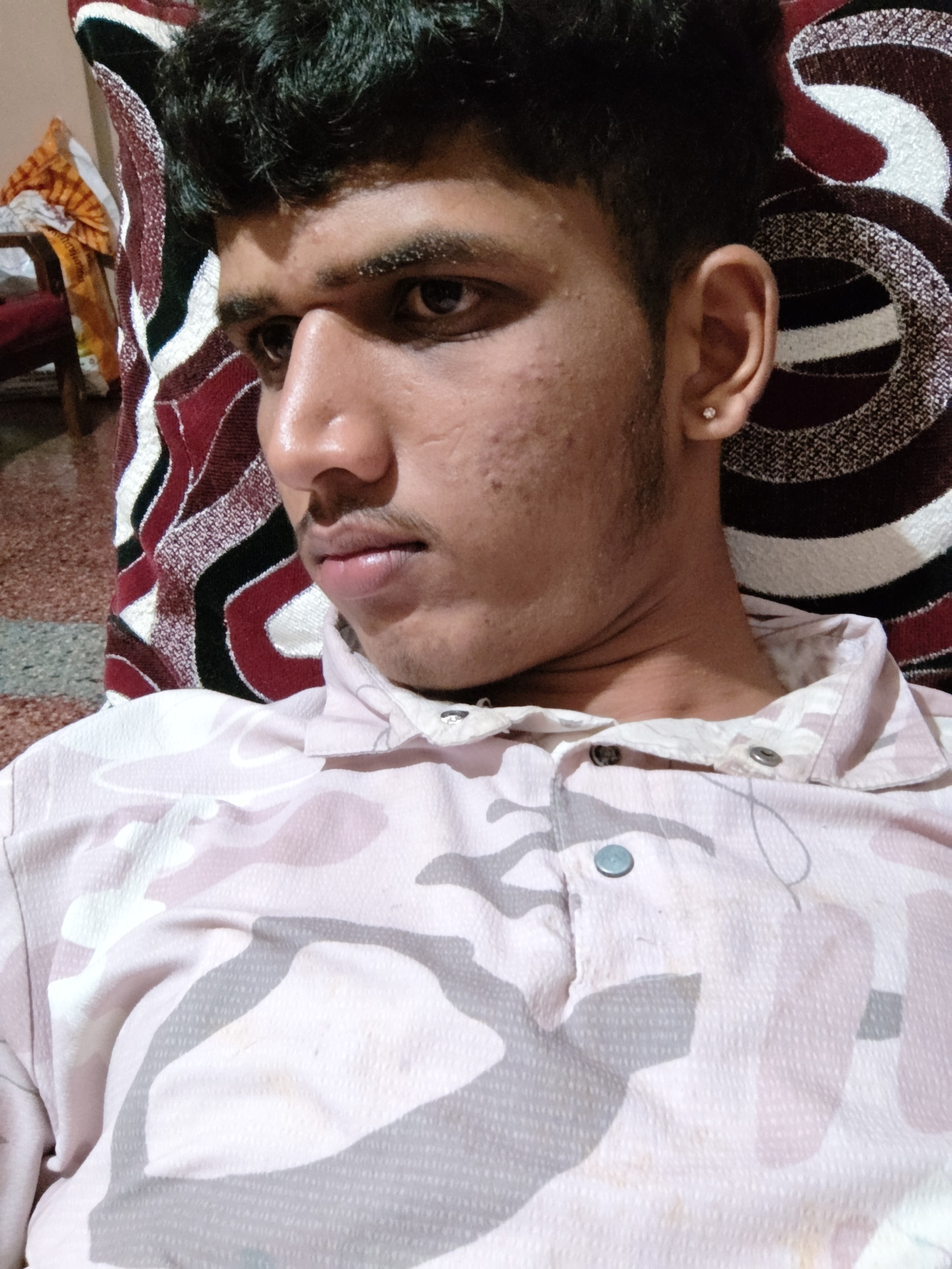closed_comedone: (559, 285, 581, 303), (522, 359, 541, 377), (555, 356, 569, 372)
